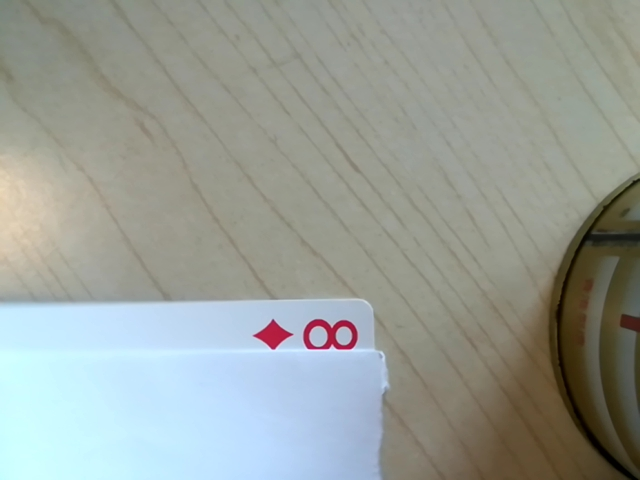fk 8: (283, 308, 372, 358)
